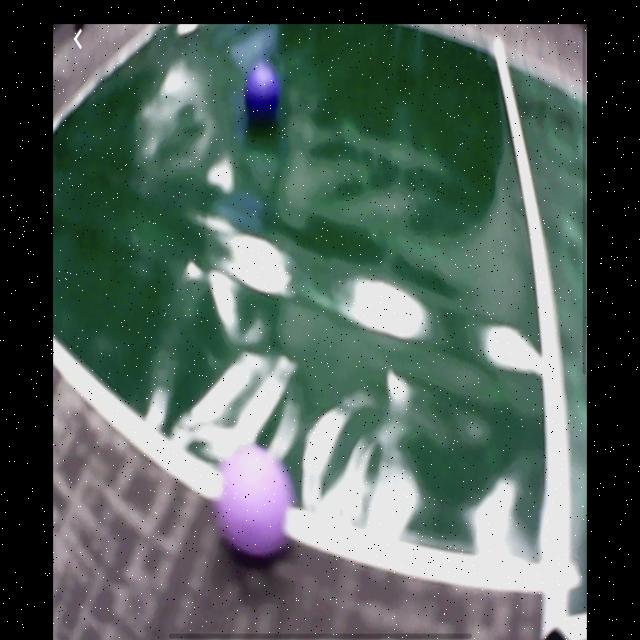ball: (221, 448, 288, 557), (245, 65, 281, 121)
